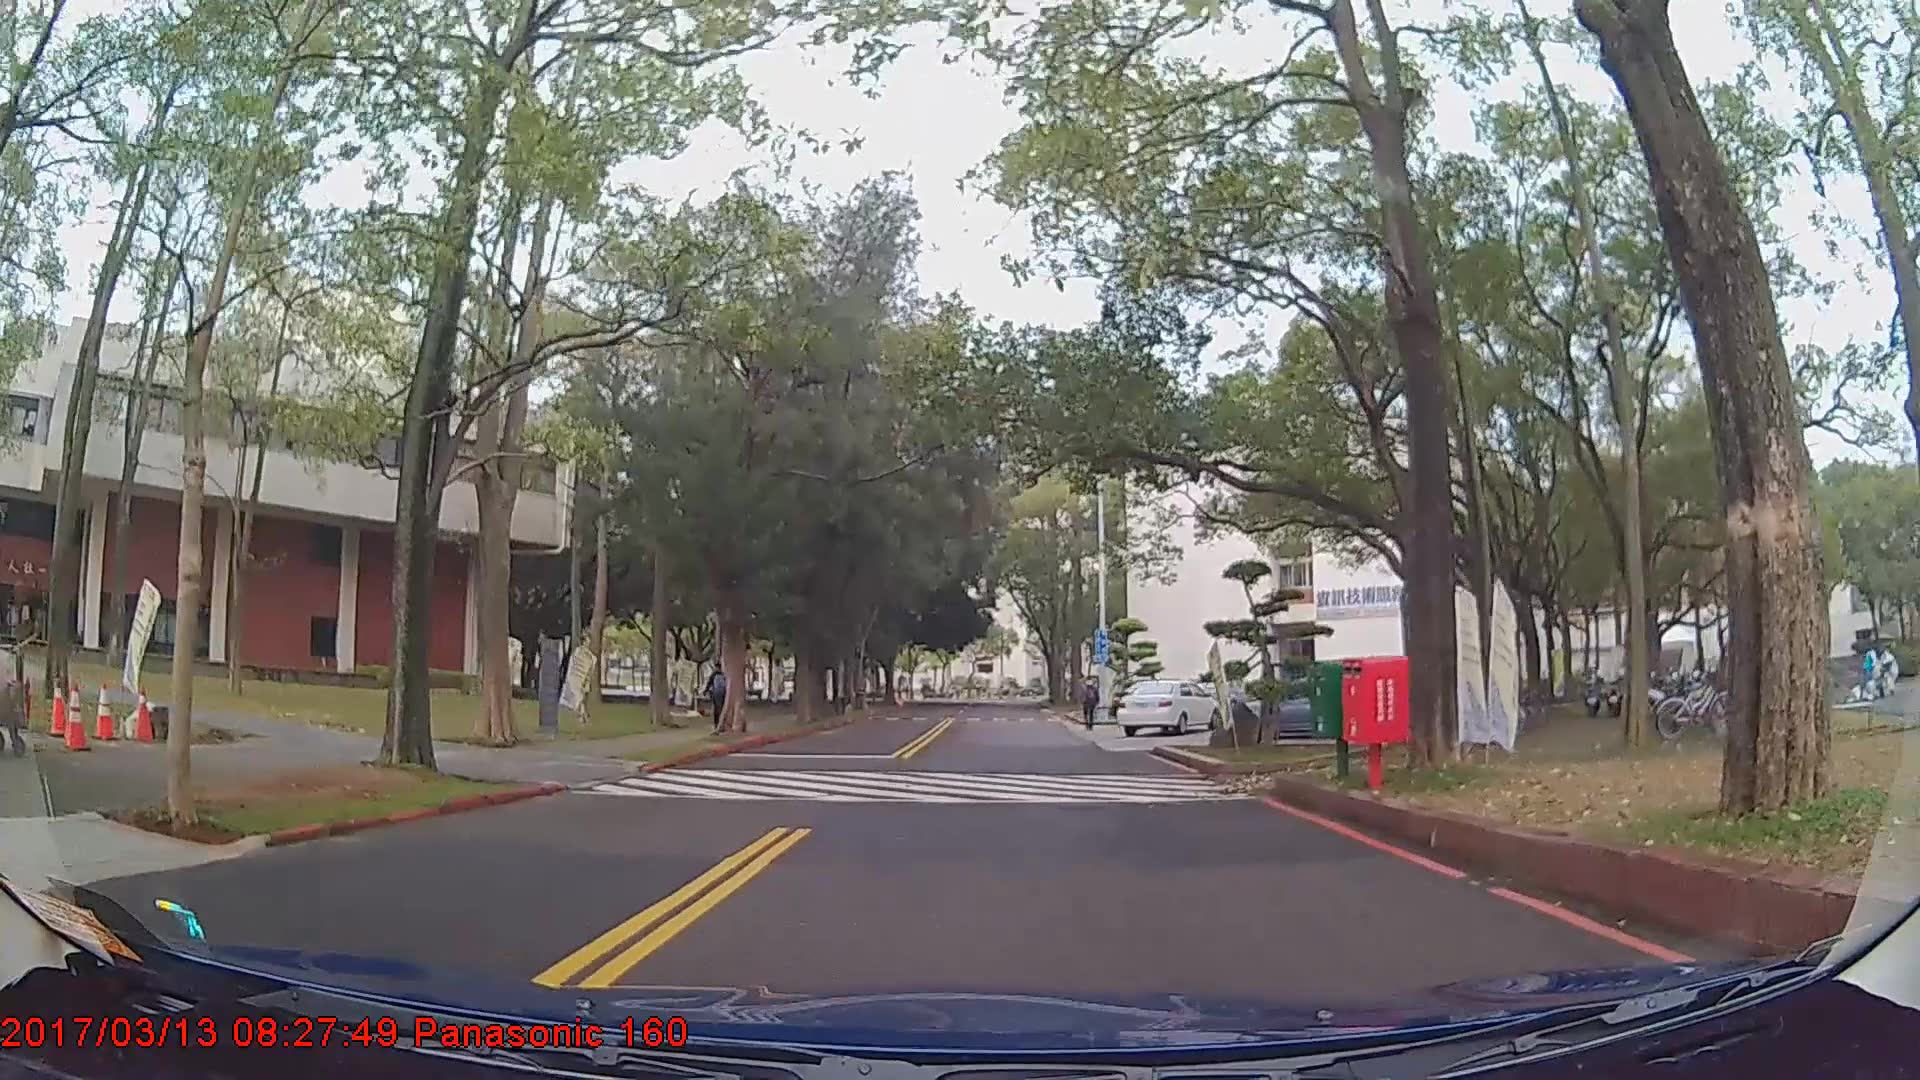pedestrian: (706, 662, 737, 732), (1078, 676, 1101, 730)
vehicle: (1117, 674, 1220, 734)
